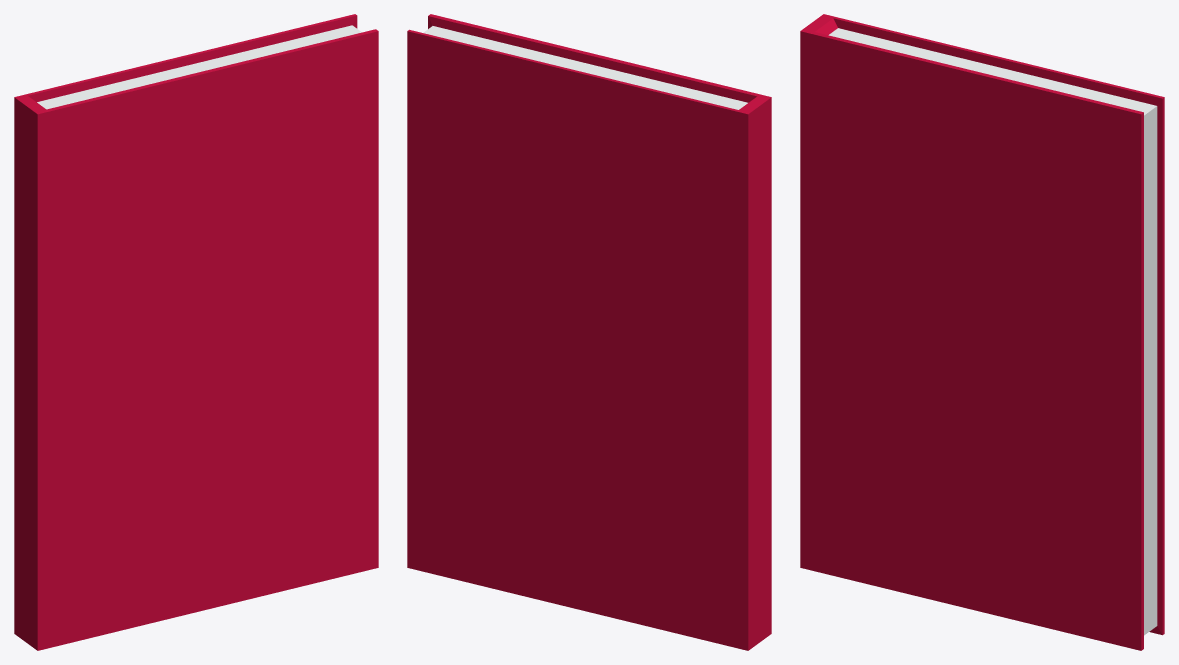
The model's file is livro4.fbx.
The picture shows the model from 3 angles, left to right: view 1: azimuth 30°, elevation 25°; view 2: azimuth 150°, elevation 25°; view 3: azimuth 330°, elevation 25°; orthographic projection.
Visible parts, largest first — view 1: Cube.004; view 2: Cube.004; view 3: Cube.004.
Boxes of the visible parts, box(x1,y1,x2,y2) form: Cube.004: box(14, 14, 378, 650); Cube.004: box(407, 14, 771, 650); Cube.004: box(800, 14, 1164, 650).
Size of the model in its own units: 29.81 by 44.82 by 3.55.
